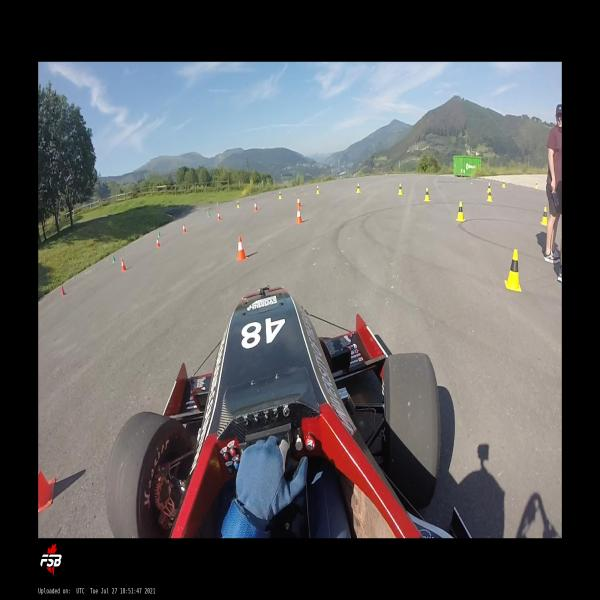orange_cone: (237, 237, 247, 261), (297, 206, 302, 224), (121, 258, 126, 272), (297, 197, 301, 206), (254, 202, 258, 210), (183, 224, 186, 233), (157, 239, 160, 247), (218, 212, 220, 220)
unknown_cone: (61, 286, 66, 296), (113, 254, 116, 263), (207, 210, 210, 217), (158, 230, 160, 237)
yellow_cone: (504, 249, 522, 292), (456, 201, 465, 222), (540, 206, 548, 225), (487, 189, 493, 202), (424, 188, 430, 201), (356, 183, 361, 193), (398, 182, 402, 194), (487, 183, 491, 192), (316, 186, 320, 195), (278, 191, 282, 199), (535, 181, 538, 189), (502, 180, 505, 188), (237, 201, 240, 208)
